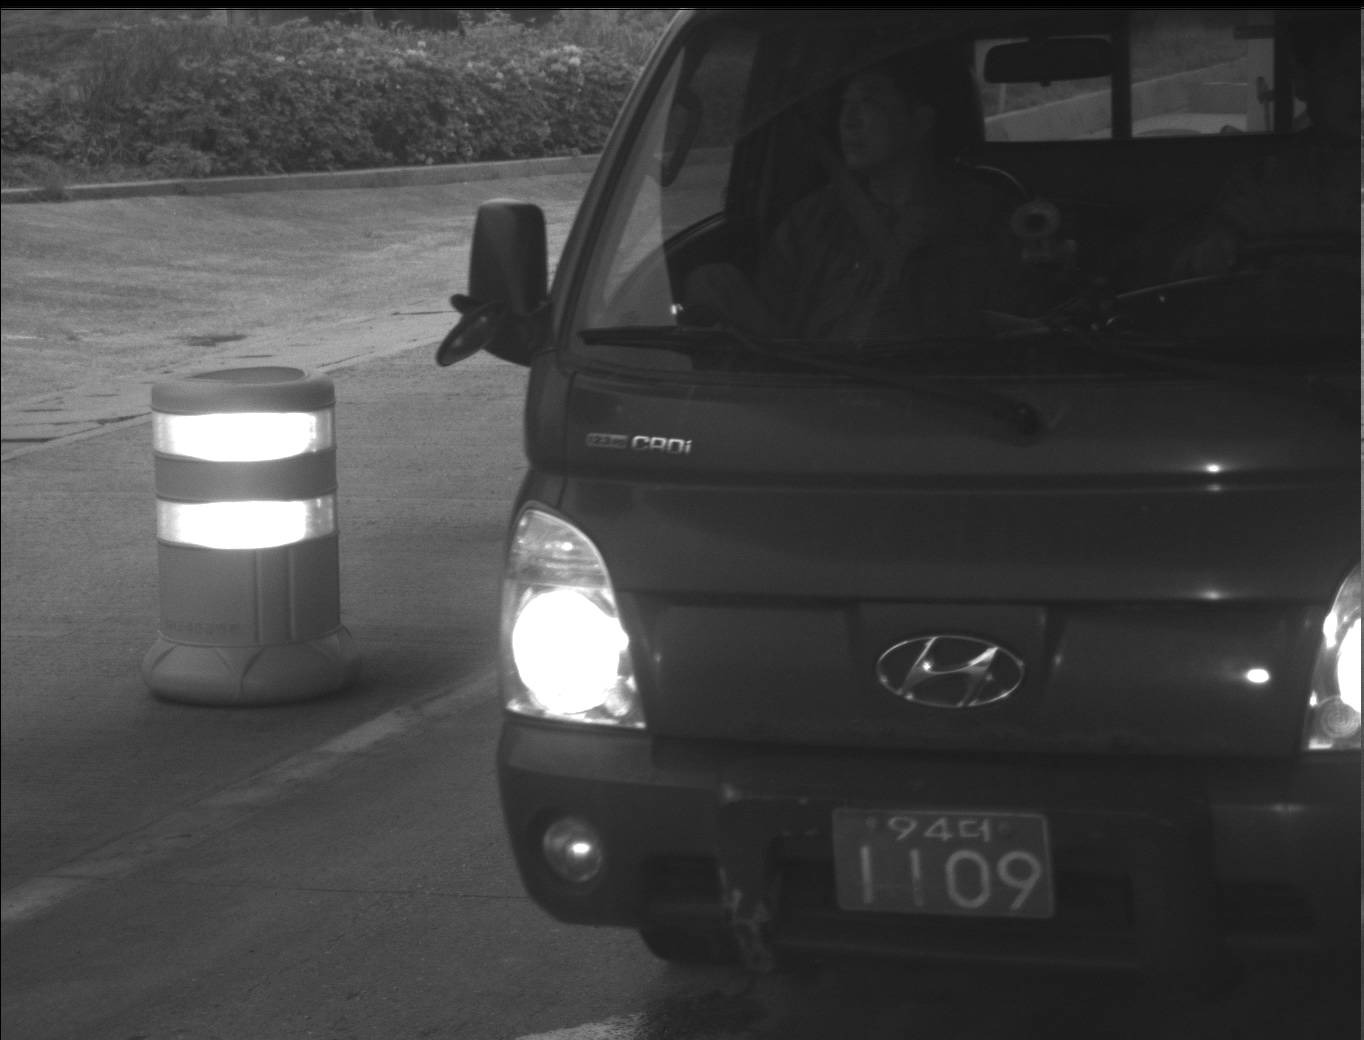car: (433, 2, 1364, 992)
plate: (829, 807, 1055, 922)
